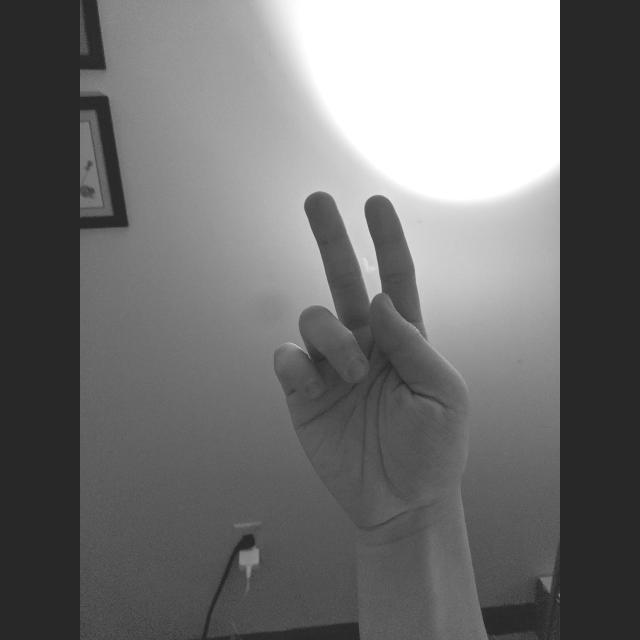K: (266, 187, 478, 536)
